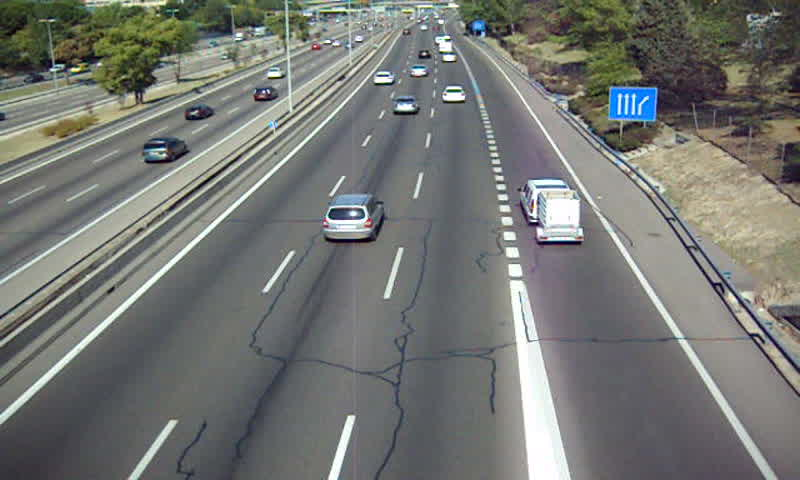car: (323, 193, 384, 240), (391, 96, 420, 115), (442, 86, 466, 104), (373, 70, 395, 86), (408, 64, 429, 79), (442, 52, 458, 63)
van: (518, 180, 573, 224)
